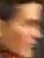kevin: (3, 4, 41, 57)
